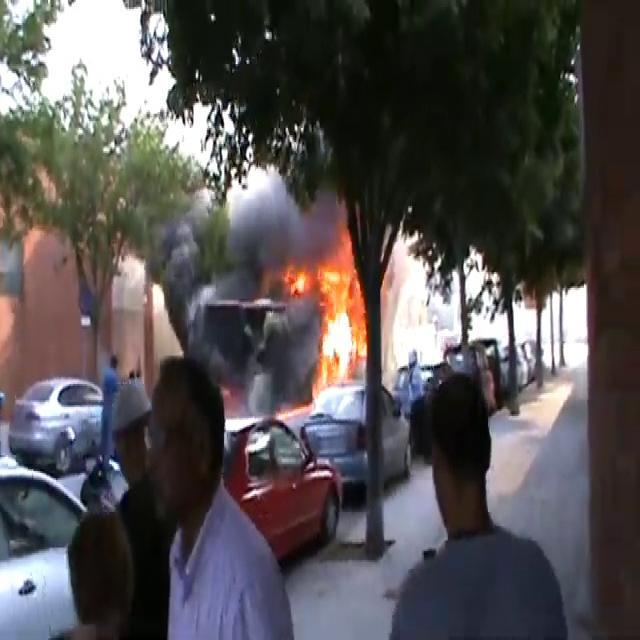Fire: (284, 254, 367, 393)
Smoke: (215, 165, 328, 302)
